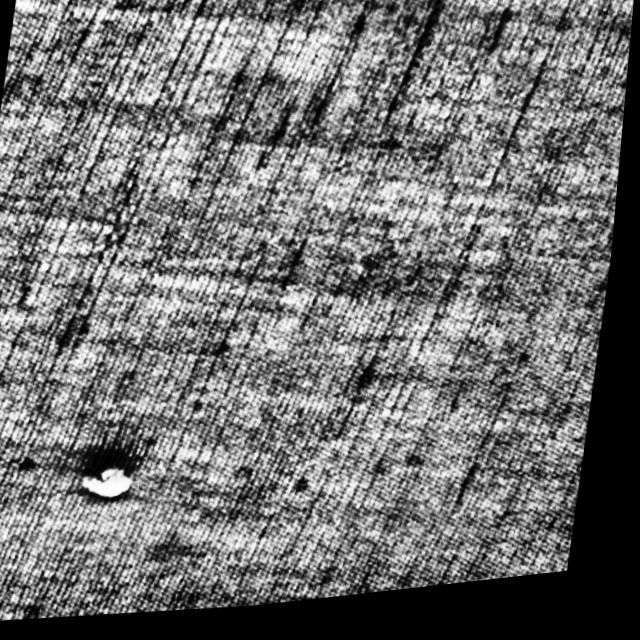Stitch: (85, 461, 146, 508)
